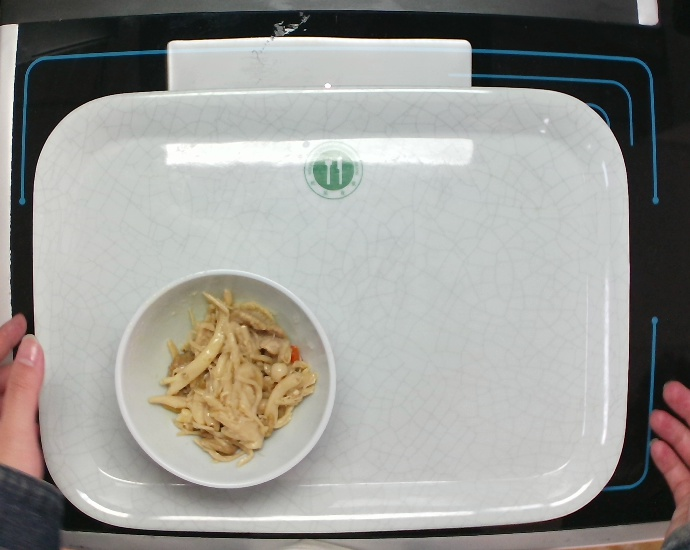JYsf-Fan_Wan: (108, 262, 341, 495)
